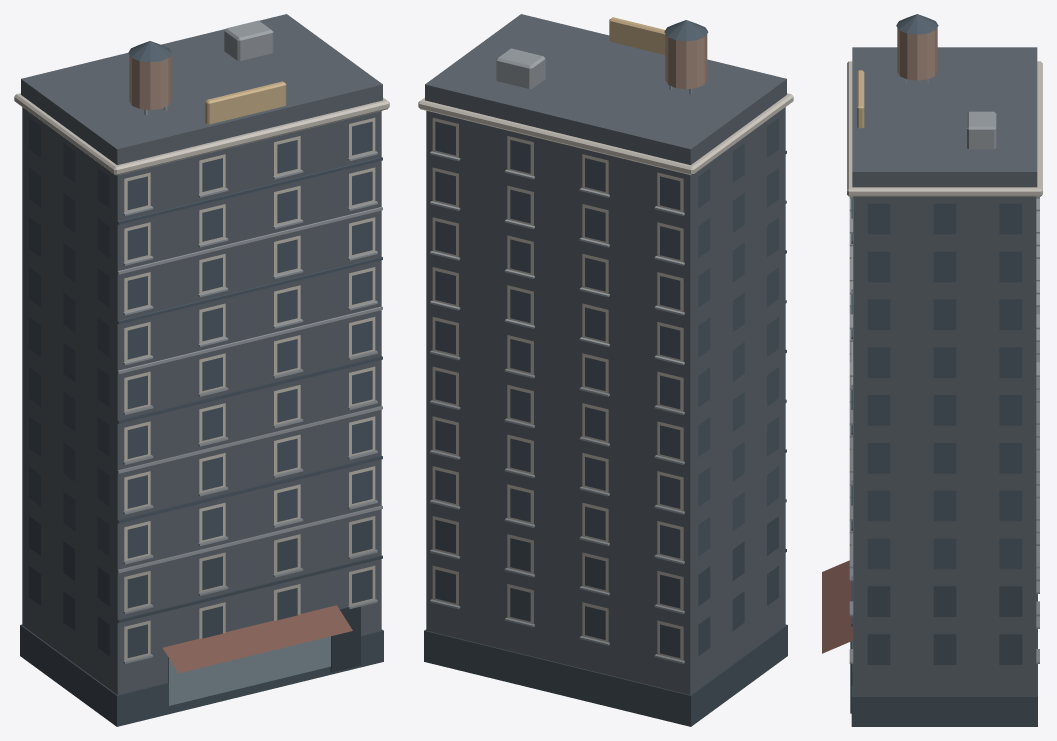
Rendered from edificio_hotel.glb.
The picture shows the model from 3 angles, left to right: view 1: azimuth 30°, elevation 25°; view 2: azimuth 150°, elevation 25°; view 3: azimuth 270°, elevation 25°; orthographic projection. The views are drawn at different scales.
Bounding box in the file's own units: 8.35 × 18.65 × 6.02.
